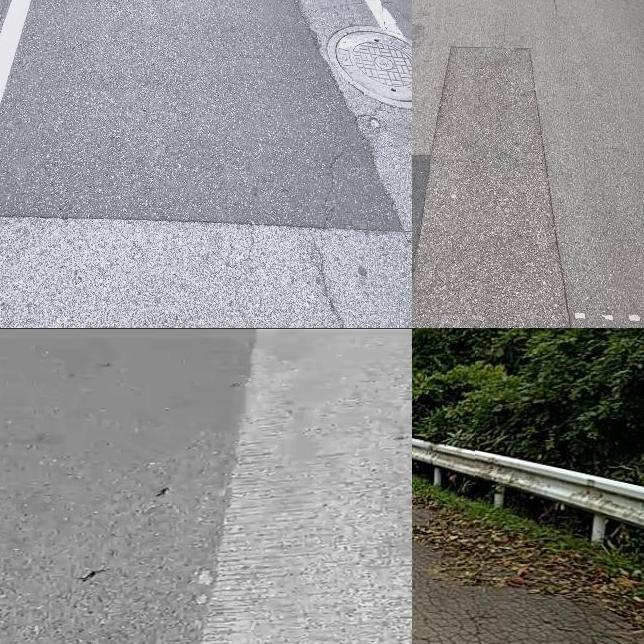Sambungan: (0, 0, 402, 228), (204, 328, 412, 644), (412, 47, 572, 328)
